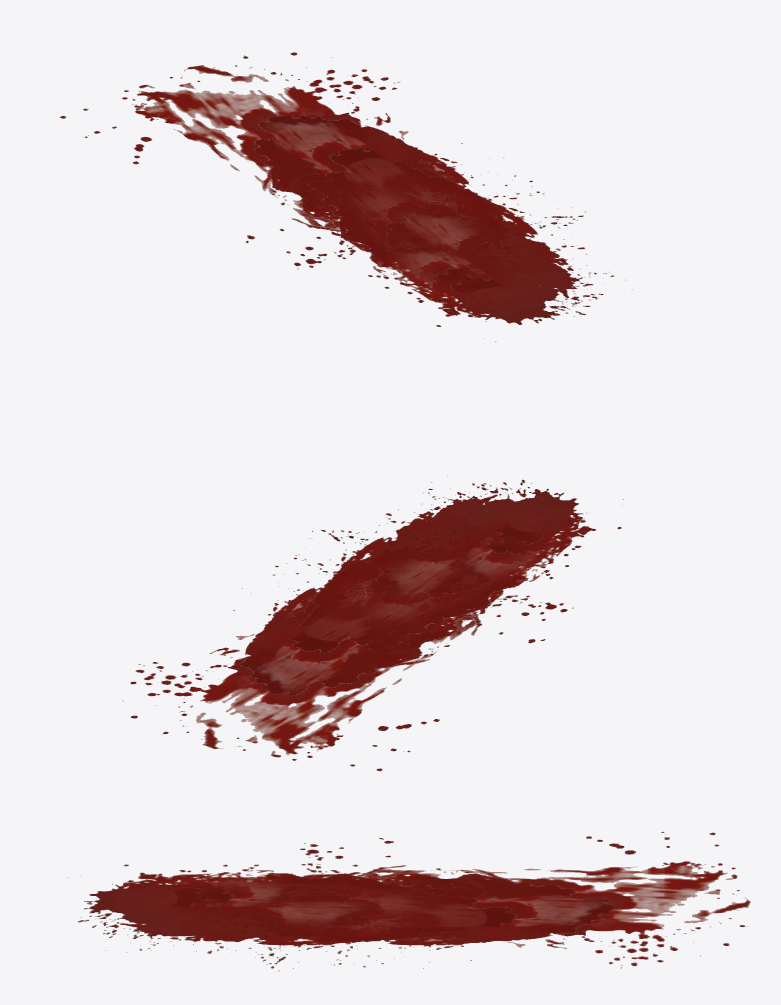
Rendered from Blood Trail Plane.fbx.
The picture shows the model from 3 angles, top to bottom: view 1: azimuth 30°, elevation 25°; view 2: azimuth 150°, elevation 25°; view 3: azimuth 270°, elevation 25°; orthographic projection. The views are drawn at different scales.
Visible parts, largest first — view 1: Plane001; view 2: Plane001; view 3: Plane001.
Part boxes in pixels (<box>): Plane001: <box>60,52,633,342</box>; Plane001: <box>122,475,623,771</box>; Plane001: <box>67,831,750,971</box>.
Bounding box in the file's own units: 56.4 × 6.61e-15 × 108.
1 material, 1 textured.
